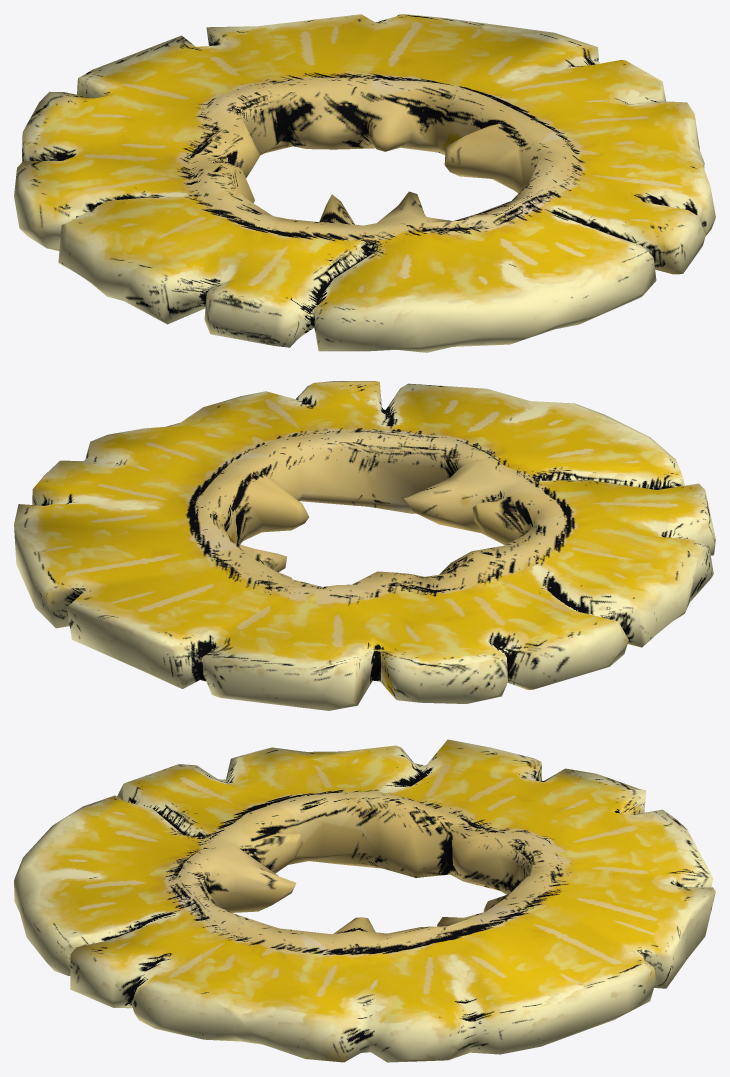
File: Piña.fbx
3 views of the same model, one above another, from view 1: azimuth 30°, elevation 25°; view 2: azimuth 150°, elevation 25°; view 3: azimuth 270°, elevation 25° (orthographic). The views are drawn at different scales.
Parts seen in each view (by area): view 1: Piña_Low; view 2: Piña_Low; view 3: Piña_Low.
Part boxes in pixels (x1,y1,x2,y2): Piña_Low: (14,14,715,352); Piña_Low: (14,381,715,710); Piña_Low: (14,739,715,1062).
Size of the model in its own units: 0.0369 by 0.0043 by 0.0381.
1 material, 1 textured.
